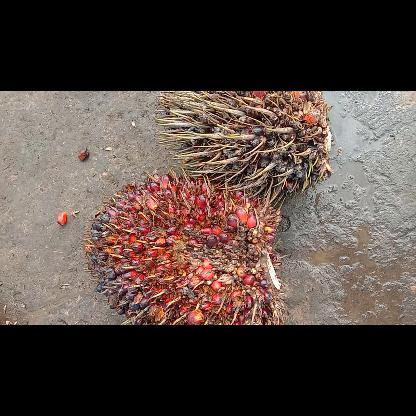TBS abnormal: (157, 90, 332, 200)
TBS masak: (82, 170, 284, 324)
